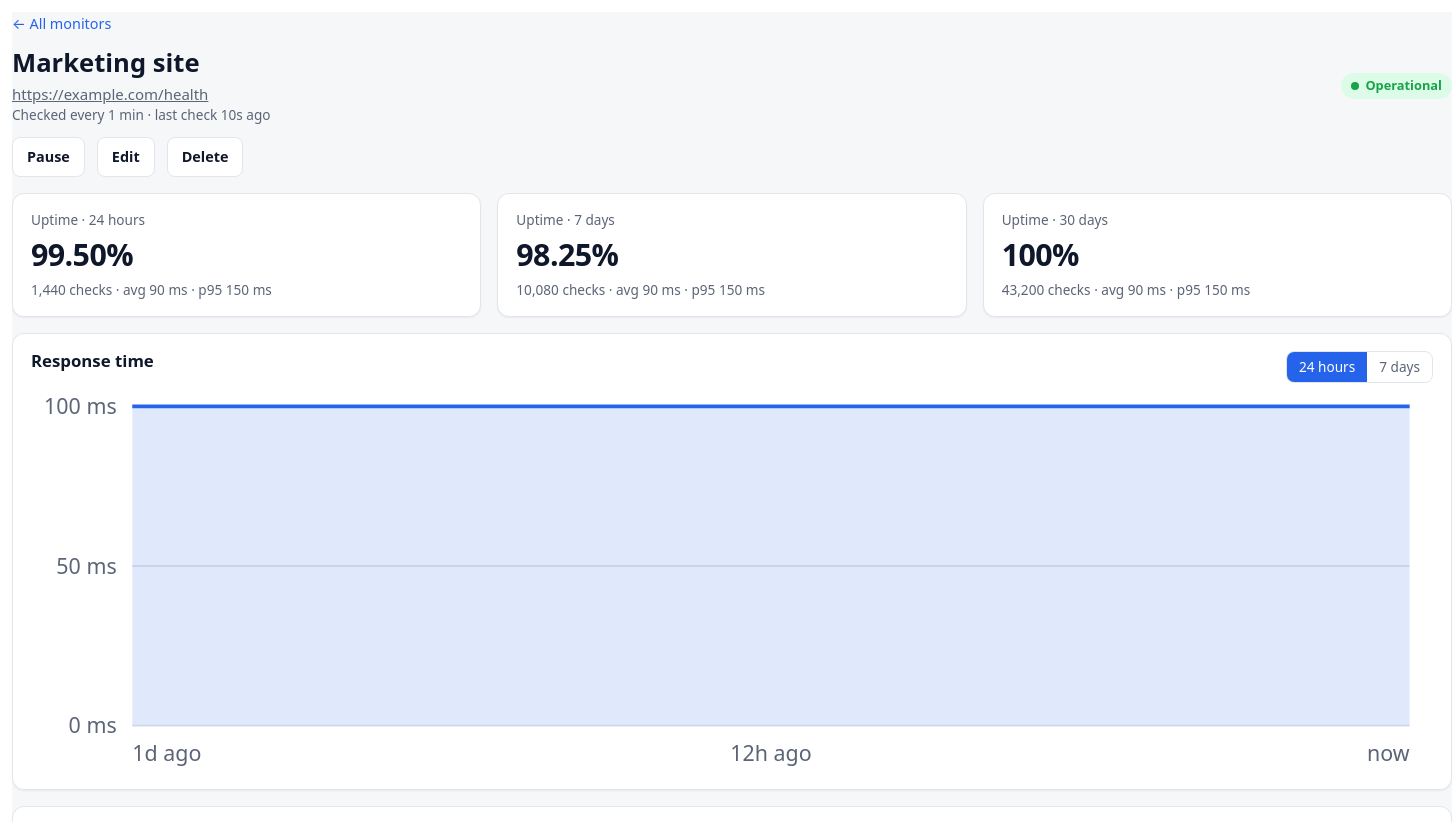
Test: MonitorPage › pauses and resumes
The image size is (1452, 822).
Step 1. Click the button "Pause" → (48, 157), box [12, 138, 85, 177]
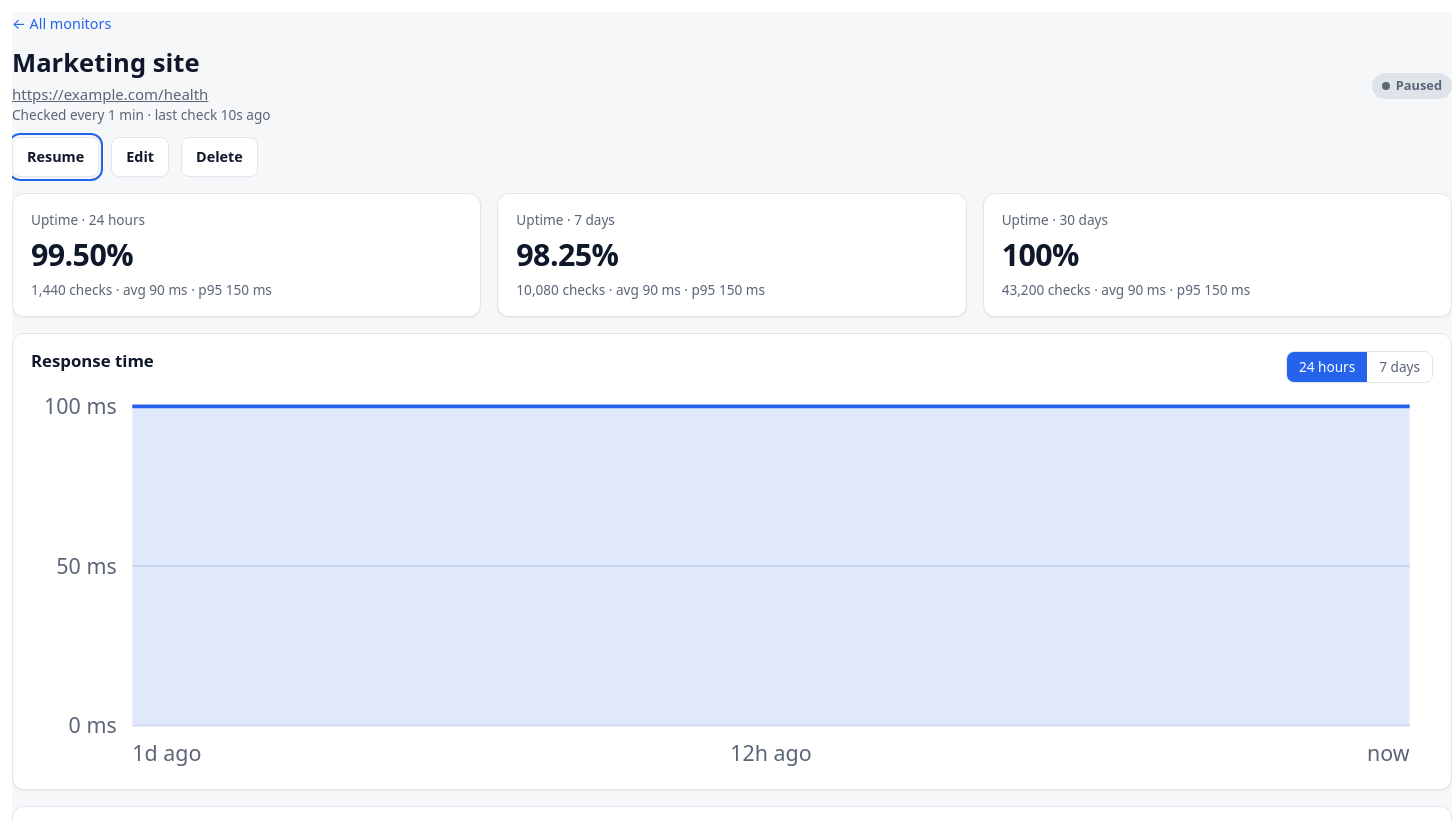
Result: the button "Resume" is shown at [12, 138, 99, 177]
Result: the text "Paused" is shown at [1372, 74, 1451, 99]
